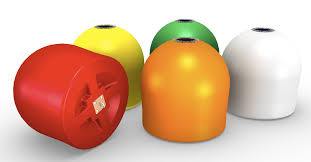buoy: (13, 44, 129, 150), (142, 38, 231, 143)
